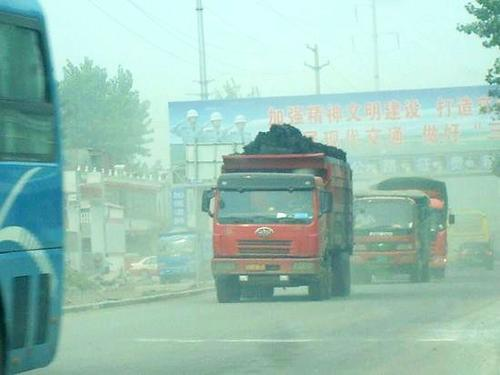chaozhai: (193, 123, 357, 302)
